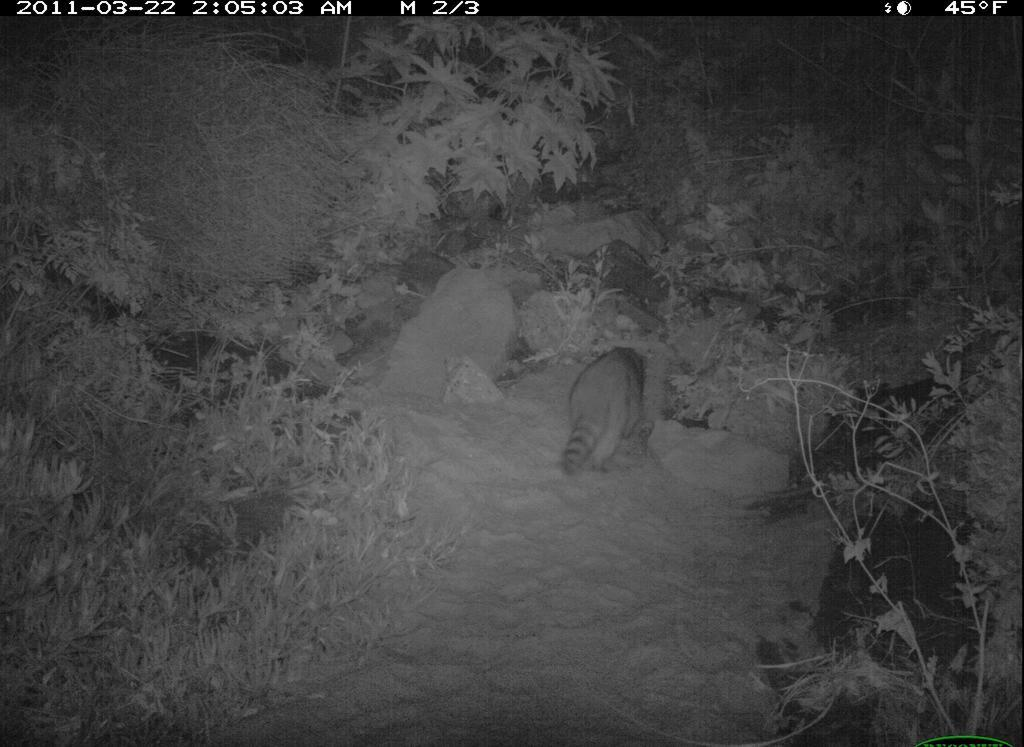raccoon: (552, 336, 660, 489)
